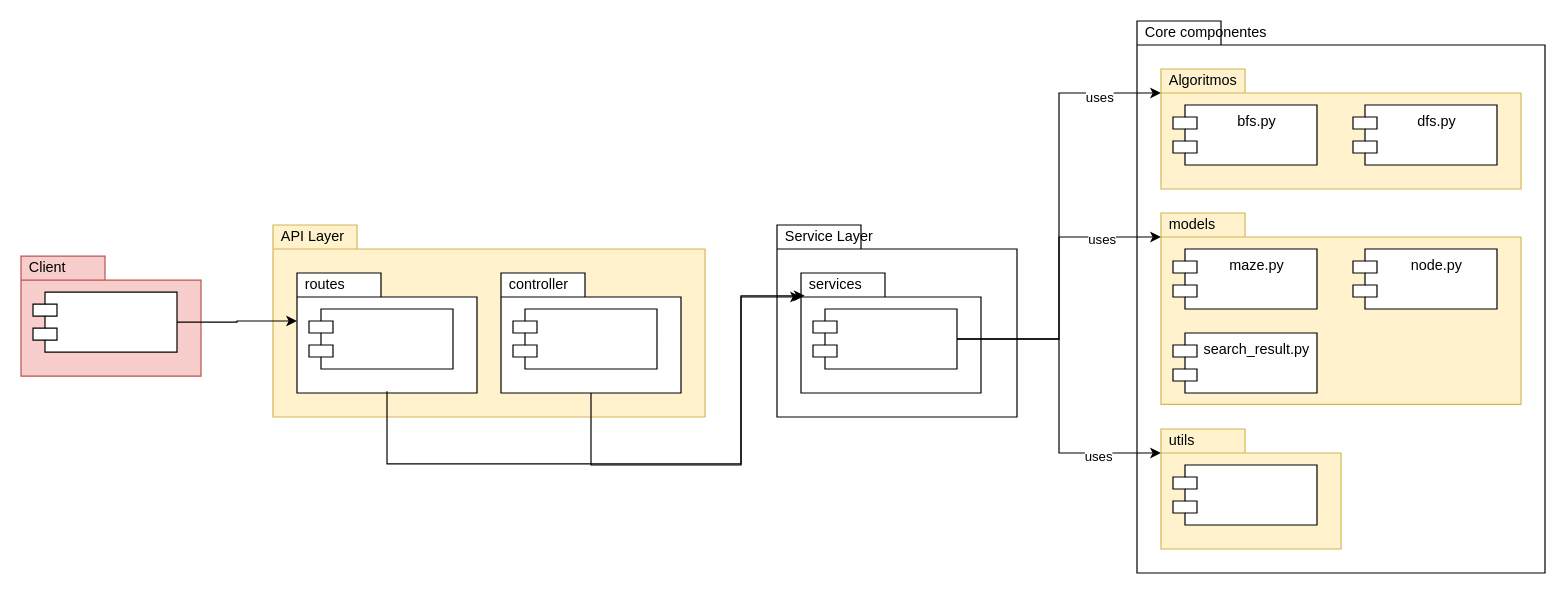
The diagram is 1566 pixels wide and 594 high, and some of its shapes have lost their labels. Here are the shapes that lost their labels. From the top down, the centre of each, then its label:
At [104,321]: "HTTP resquest".
At [380,338]: "maze_routes.py".
At [584,338]: "maze_controller.py".
At [884,338]: "search_service.py".
At [1244,494]: "timer.py".
